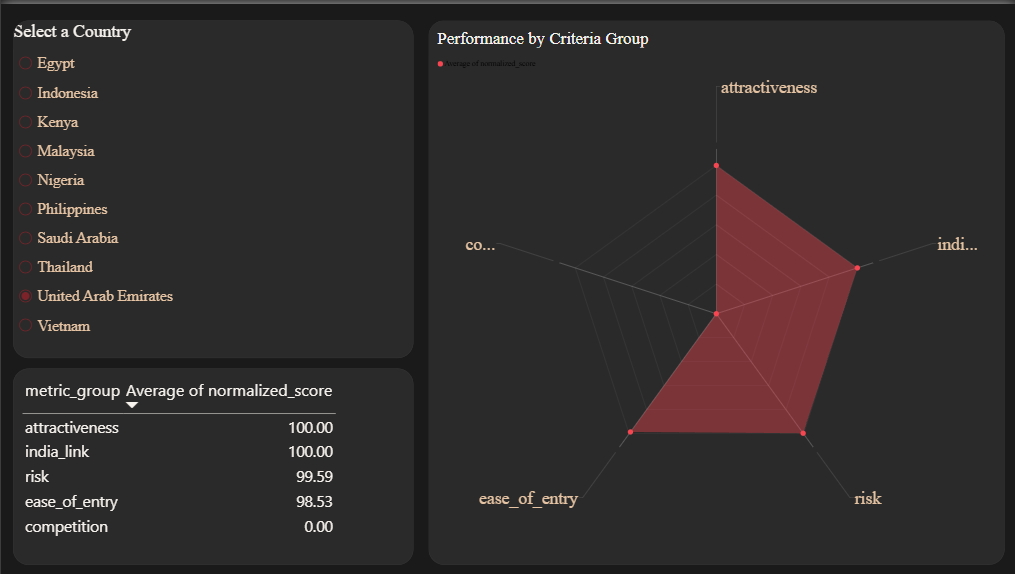

What the dashboard file says about the page in this screenshot:
{"tool":"powerbi","page":{"name":"Country Deep Dive","canvas":[1920,1080],"ordinal":1},"visuals":[{"type":"slicer","title":"Select a Country","fields":{"Values":["market_entry_analysis normalized_scores.country_name"]},"box":[22.7,31.2,756.9,637.8],"z":0},{"type":"RadarChart1446119667547","title":"Performance by Criteria Group","fields":{"Category":["market_entry_analysis normalized_scores.metric_group"],"Y":["Avg(market_entry_analysis normalized_scores.normalized_score)"]},"box":[807.9,31.2,1088.5,1029],"z":1},{"type":"tableEx","fields":{"Values":["market_entry_analysis normalized_scores.metric_group","Avg(market_entry_analysis normalized_scores.normalized_score)"]},"box":[22.7,688.8,756.9,371.3],"z":2}]}

Visuals, with their boxes in screenshot pixels (x1, y1, x2, y2), scaled from the page's 1920x1080 canvas onto the 1015x574 screenshot:
"Select a Country" slicer: (12,17,412,356)
"Performance by Criteria Group" RadarChart1446119667547: (427,17,1003,563)
tableEx - market_entry_analysis normalized_scores.metric_group x Avg(market_entry_analysis normalized_scores.normalized_score): (12,366,412,563)
